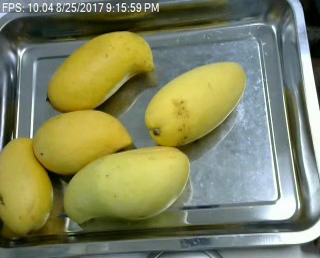Mango: (60, 144, 194, 227), (46, 28, 155, 116), (142, 62, 250, 150), (33, 109, 131, 175), (0, 136, 57, 237)
